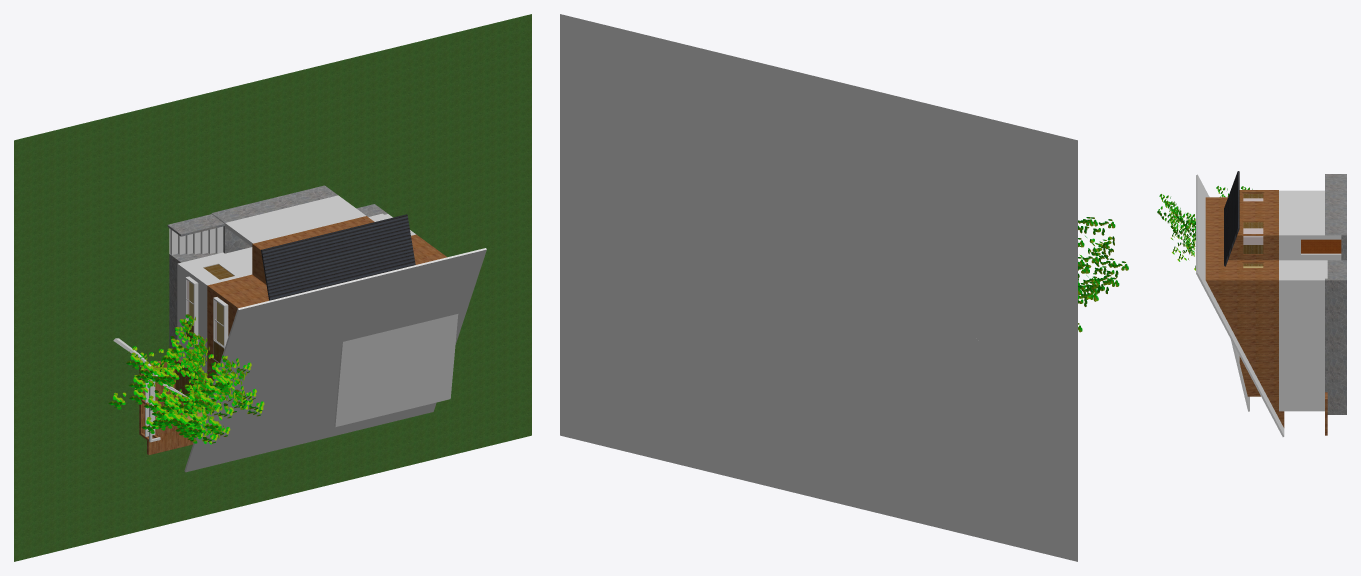
File: 432e938b-5601-4520-aaa8-8f21c1159957.glb
3 renders of one model, left to right at view 1: azimuth 30°, elevation 25°; view 2: azimuth 150°, elevation 25°; view 3: azimuth 270°, elevation 25°, orthographic. The views are drawn at different scales.
Bounding box in the file's own units: 1043 × 812 × 407.
Materials: 18 (9 with a texture image).
